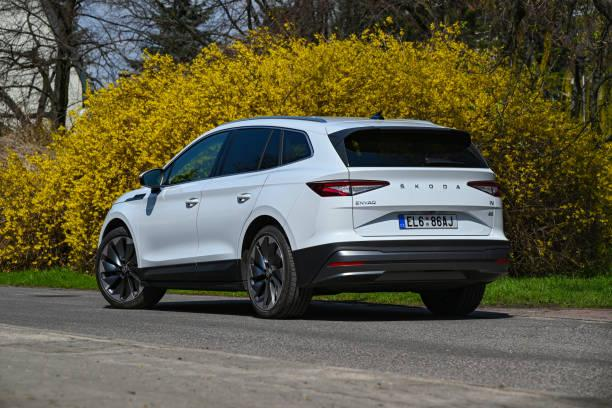skoda: (395, 178, 467, 196)
